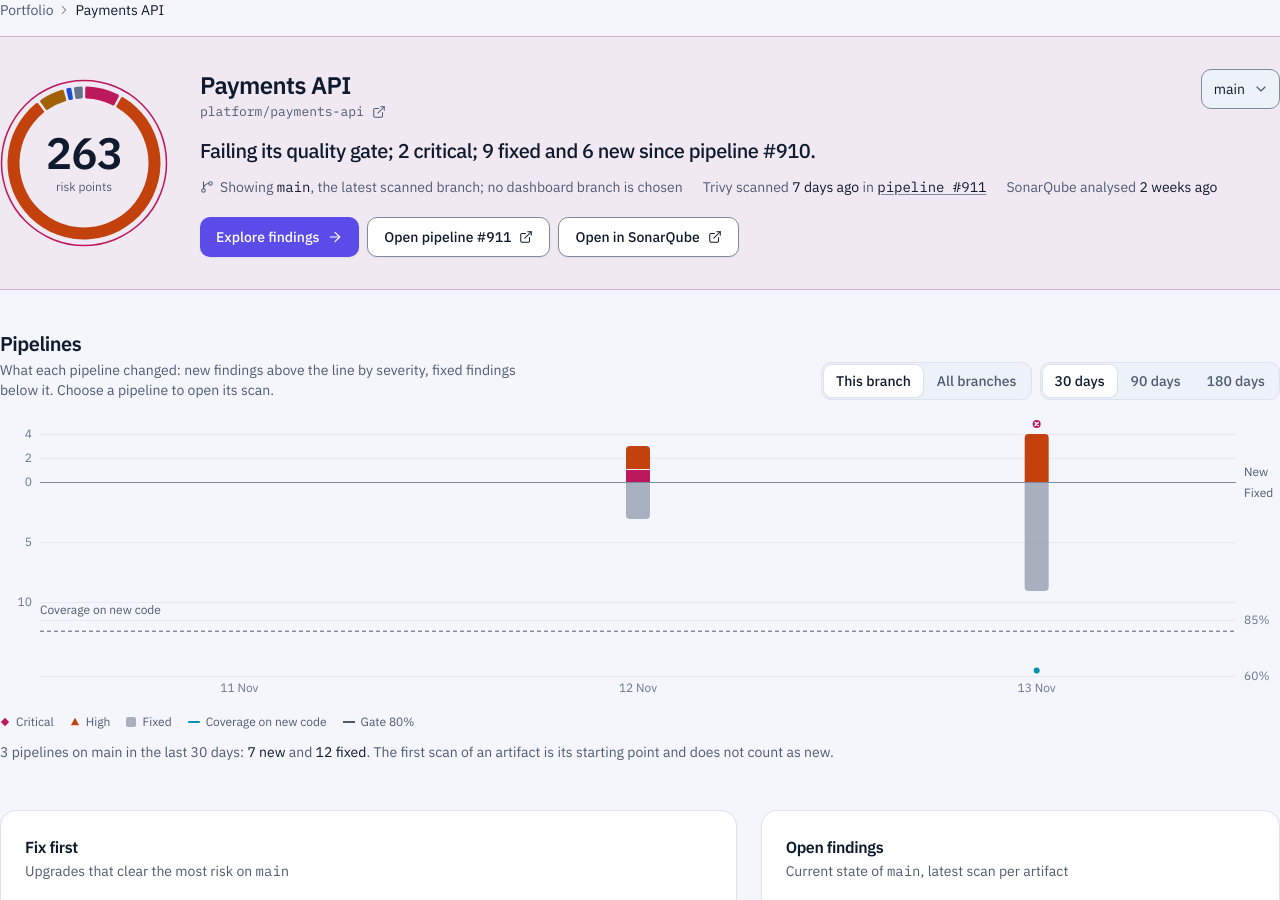
Test: service dashboard › draws the pipelines and opens the scan of a chosen pipeline
Expected: the element with test id "strip-totals" shows "3 pipelines on main in the last 30 days: 7 new and 12 fixed. The first scan of an artifact is its starting point and does not count as new.", [0, 743, 834, 761]
Click the button named "Pipeline #910": (638, 546) [439, 416, 837, 676]
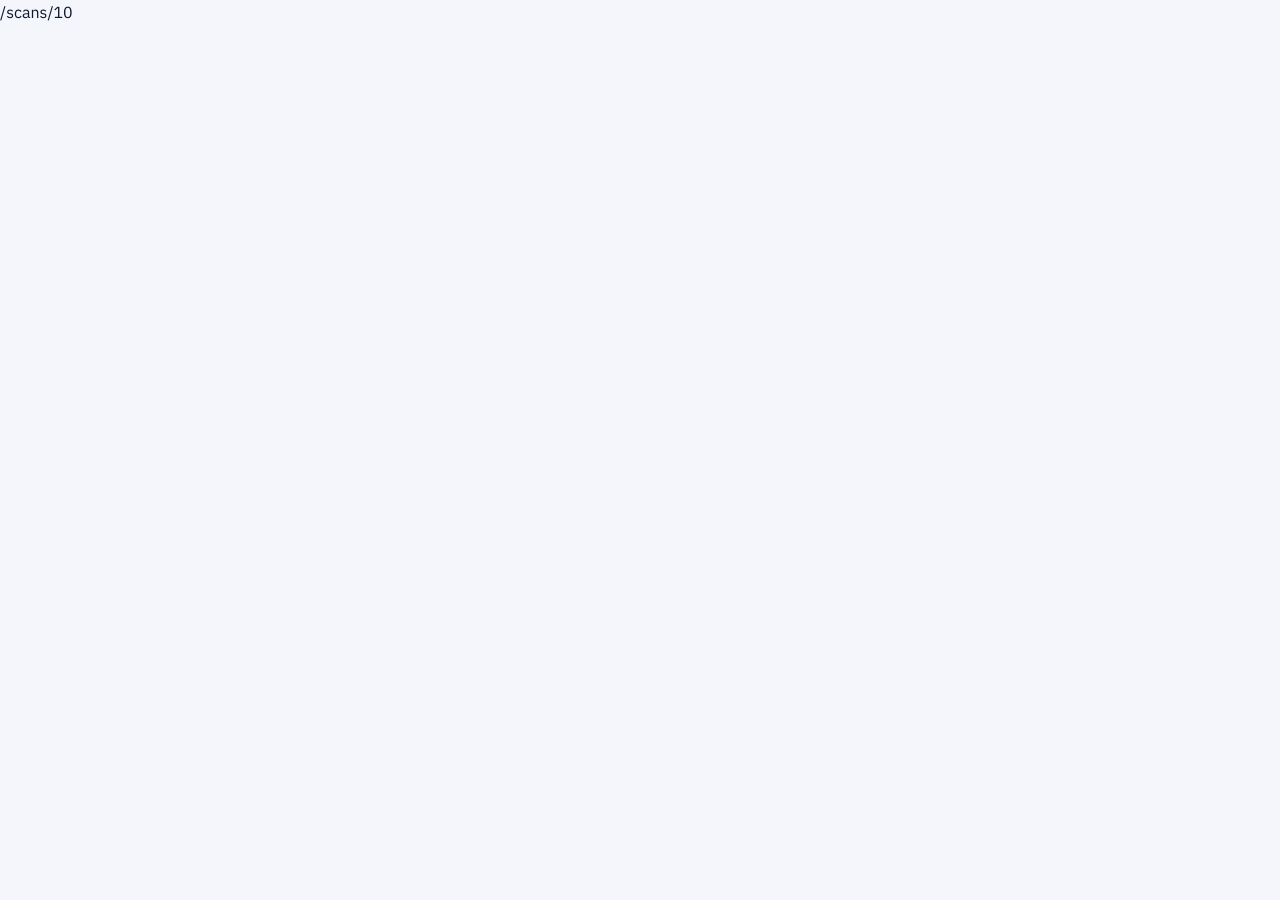
Expected: the text with test id "location" reads "/scans/10", [0, 2, 73, 22]
